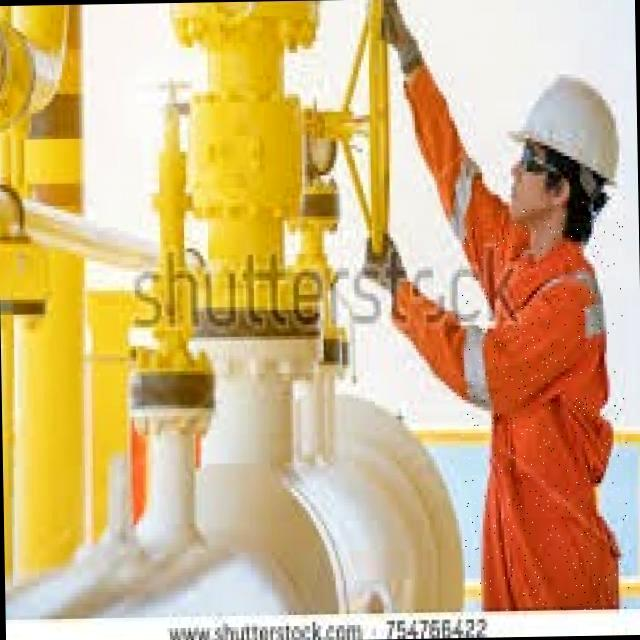hard_hat: (510, 75, 618, 189)
person: (383, 0, 620, 608)
